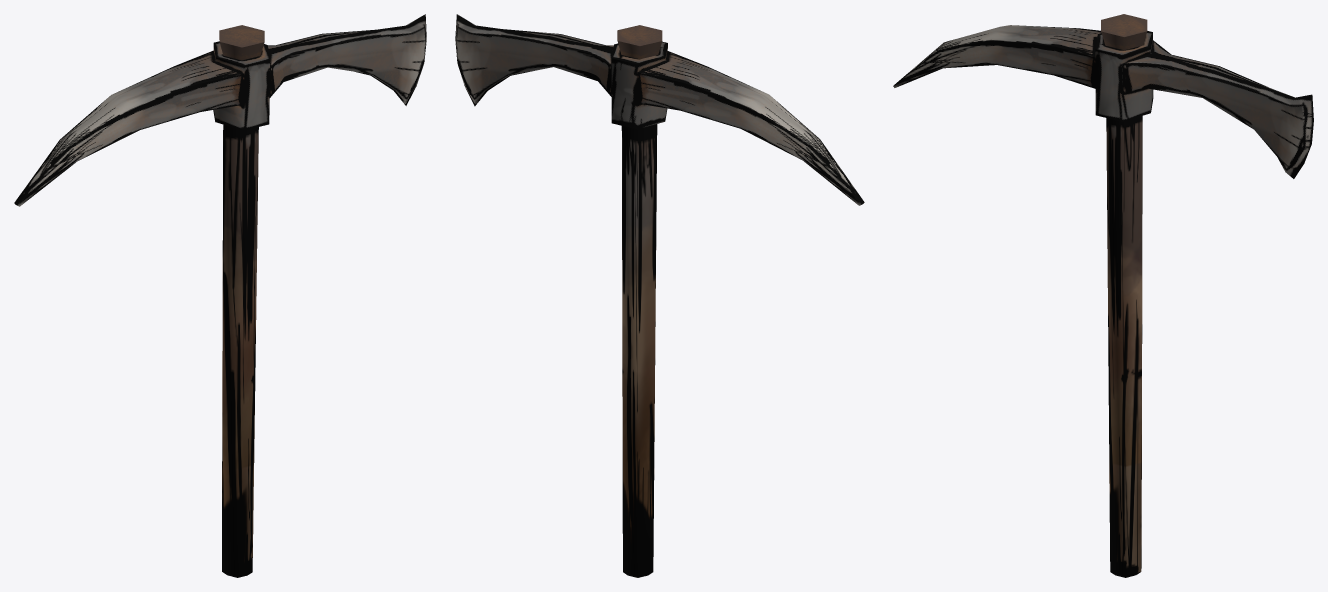
The model's file is pickaxe.fbx.
The picture shows the model from 3 angles, left to right: view 1: azimuth 30°, elevation 25°; view 2: azimuth 150°, elevation 25°; view 3: azimuth 330°, elevation 25°; orthographic projection. The views are drawn at different scales.
Visible parts, largest first — view 1: Pickaxe; view 2: Pickaxe; view 3: Pickaxe.
Boxes of the visible parts, box(x1,y1,x2,y2) form: Pickaxe: box(14, 14, 426, 577); Pickaxe: box(455, 14, 864, 577); Pickaxe: box(893, 14, 1313, 577).
Size of the model in its own units: 9095 by 11391 by 1196.
